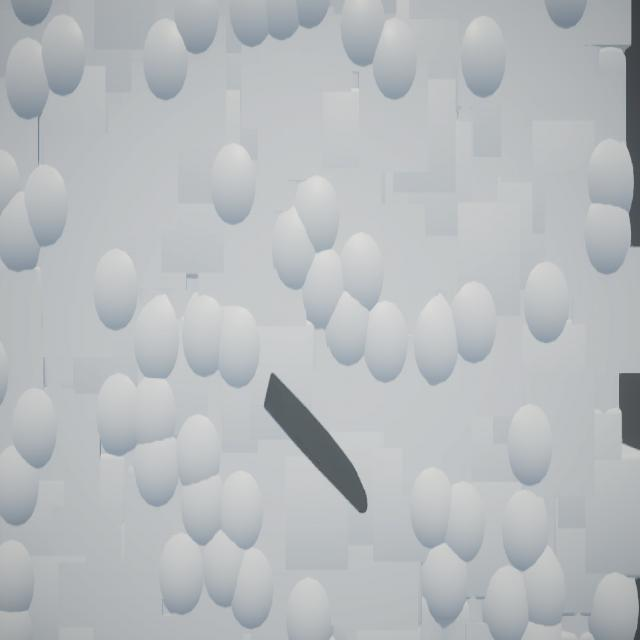top_knife: (265, 373, 368, 514)
